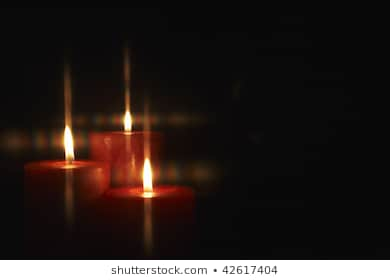Fire: (59, 126, 78, 163), (140, 155, 155, 198), (120, 108, 135, 135)
